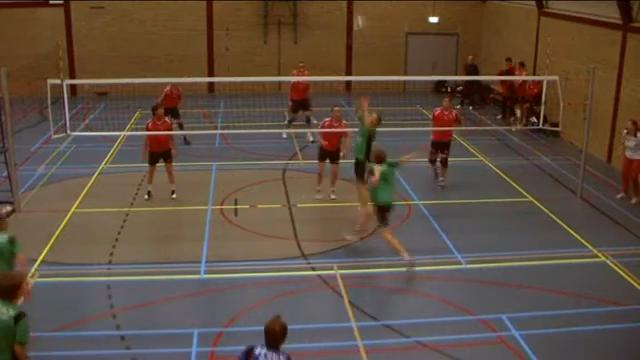alzata: (340, 91, 383, 227)
